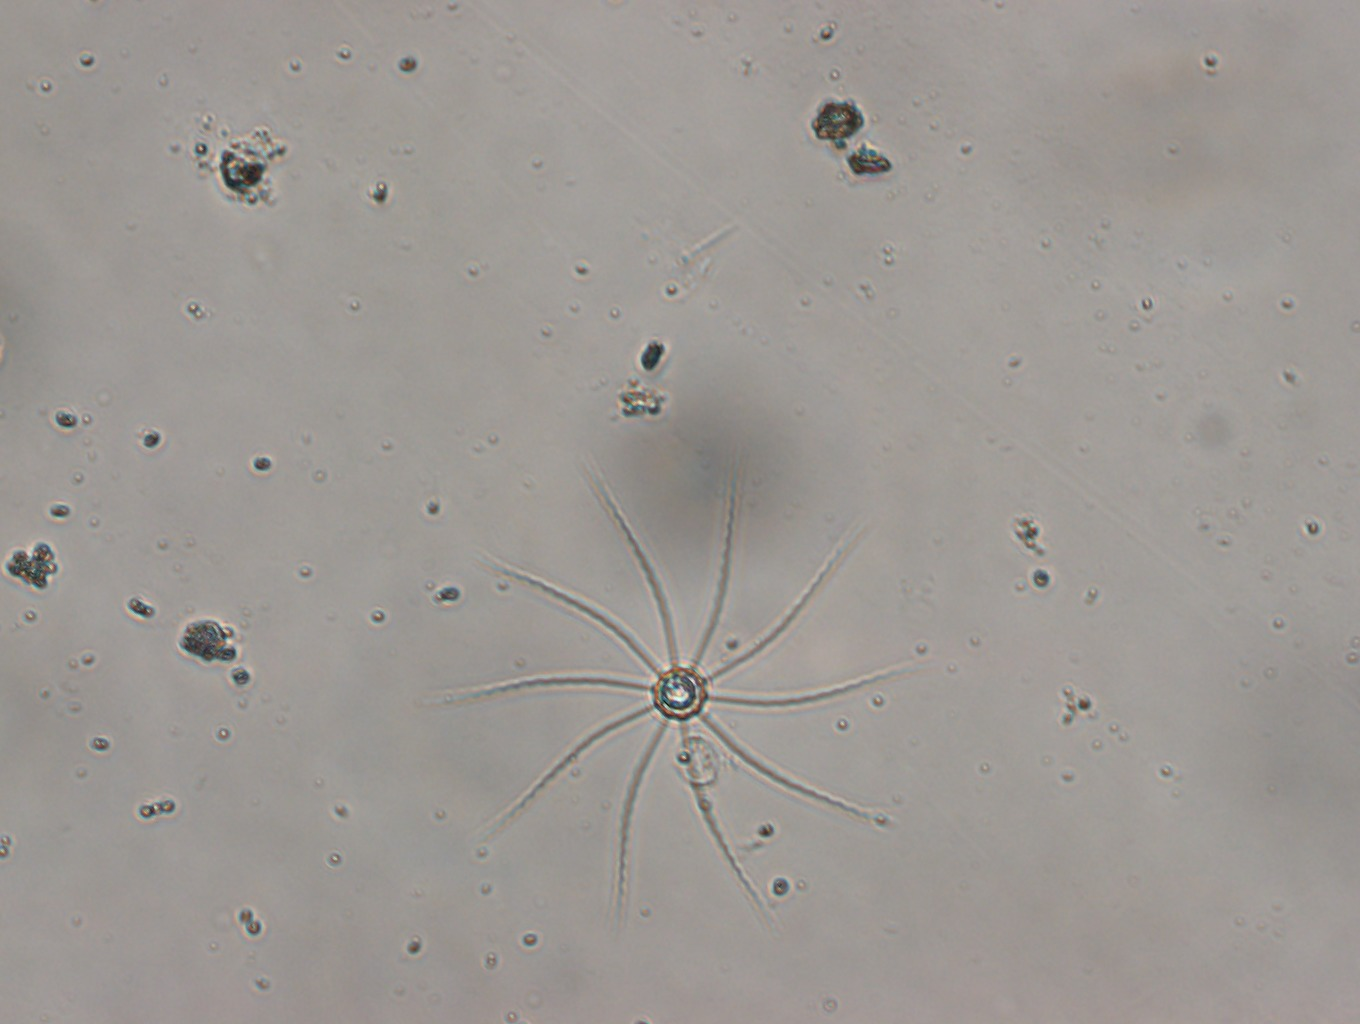bacteriastrum: (442, 460, 910, 931)
